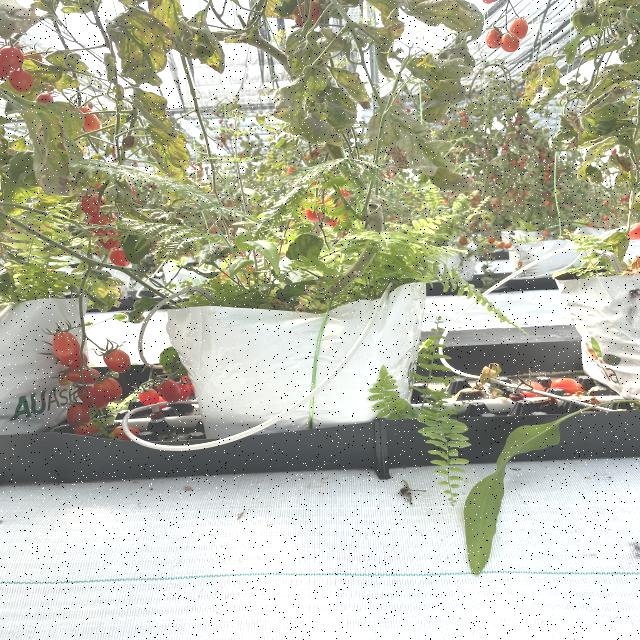Soilbag: (160, 284, 412, 428), (0, 290, 85, 434), (544, 275, 640, 395)
Tomato: (50, 333, 177, 426), (288, 158, 368, 245), (84, 190, 132, 262), (479, 18, 537, 73)
plant: (142, 42, 416, 280), (535, 55, 640, 270), (0, 50, 80, 280)
